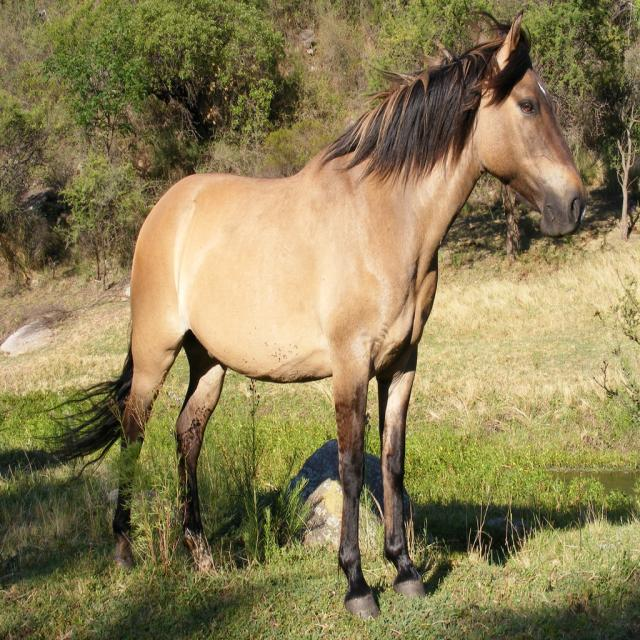Horse: (26, 9, 586, 618)
